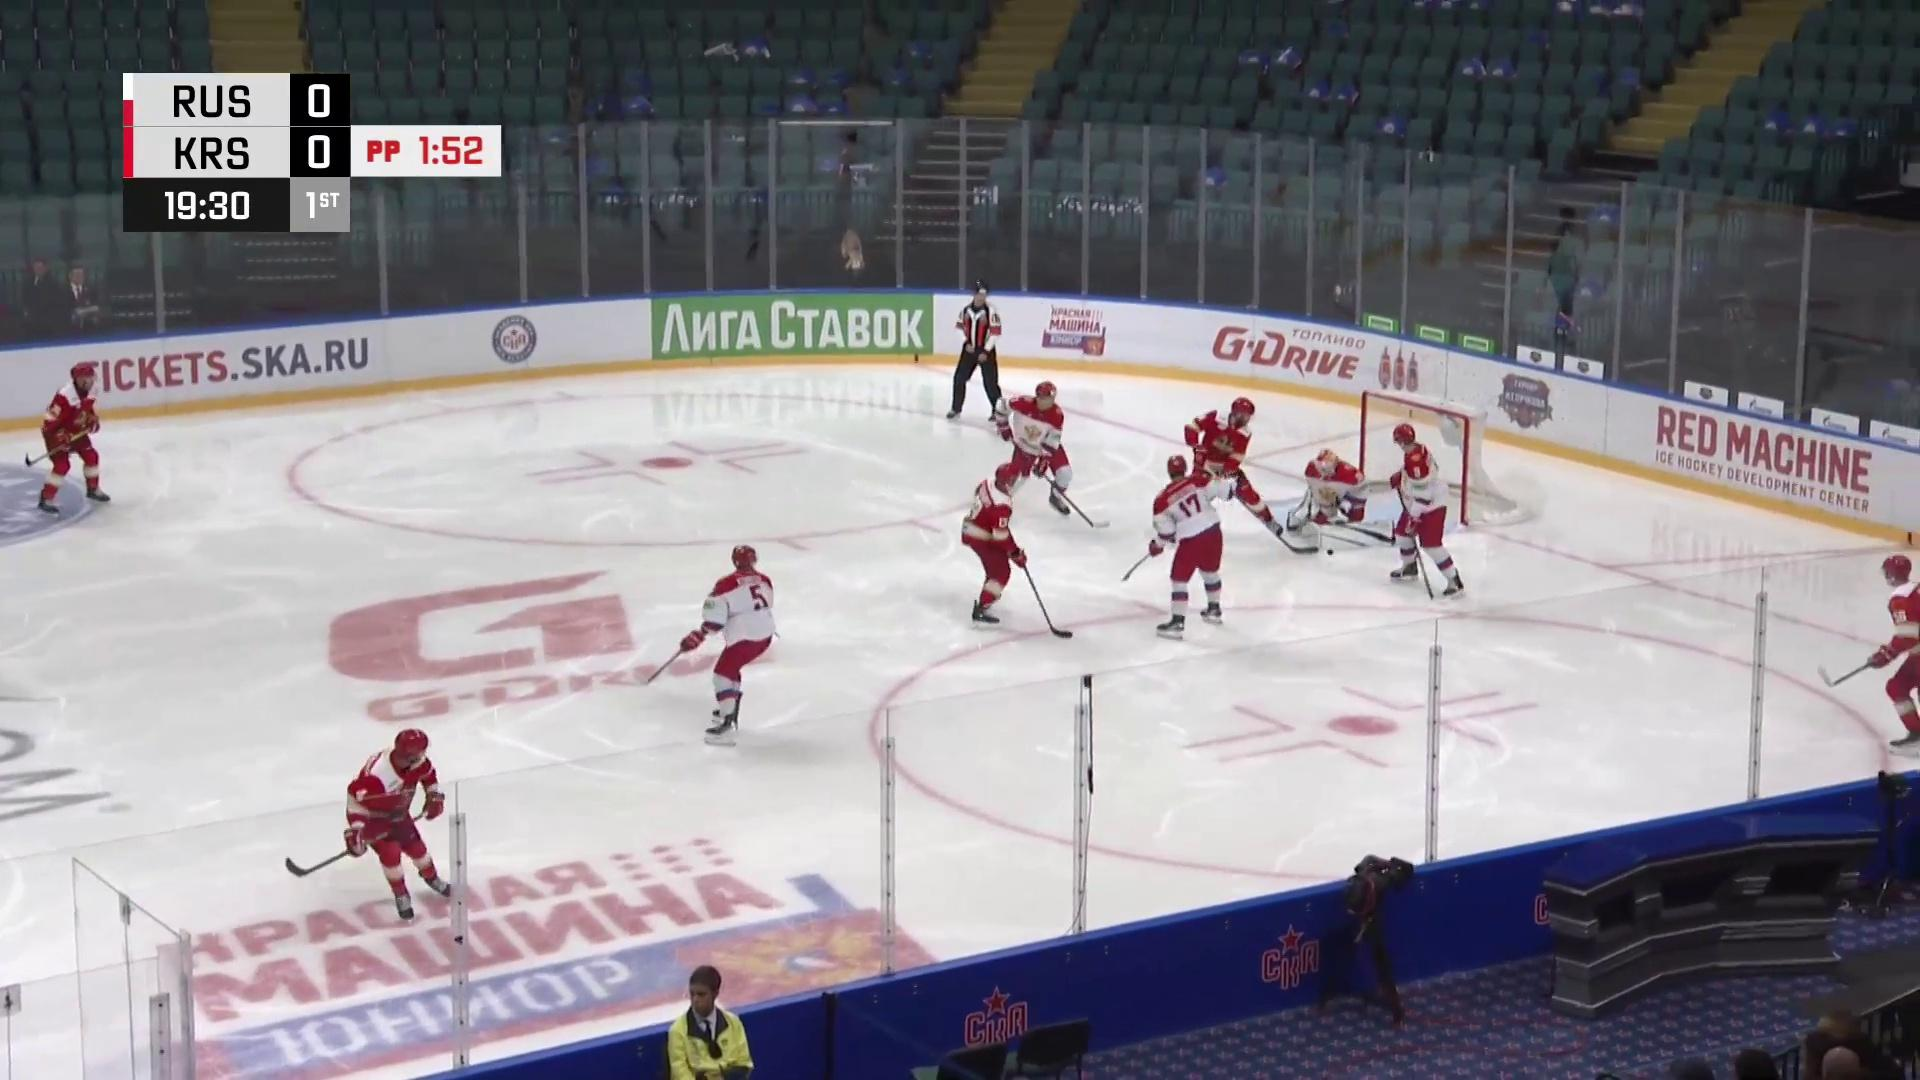ball: (1325, 547, 1336, 556)
